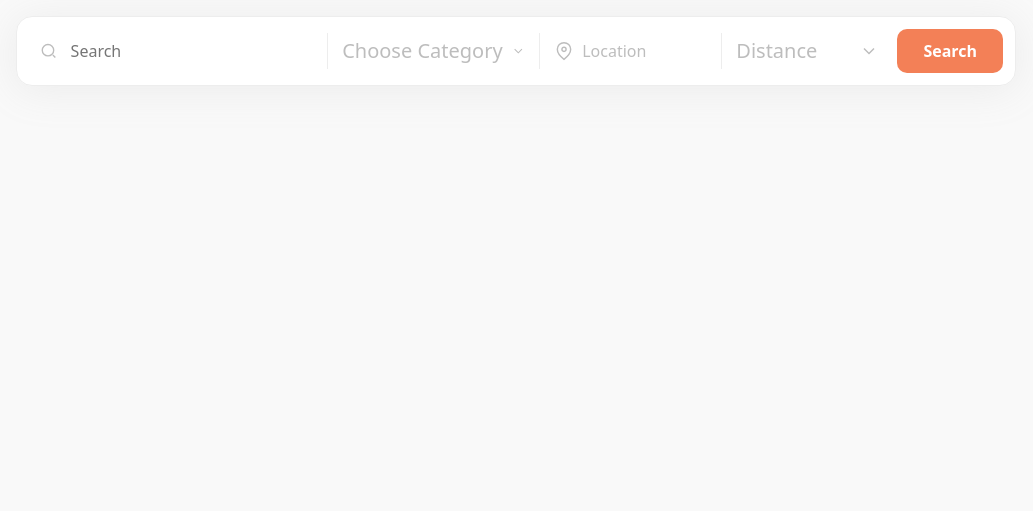
HomeSearchBar › does not fall back to the visitor position when a typed location gives no centre
This screenshot has width=1033, height=511.
Type "Al Khor" into the dropdown labelled "Location" at (645, 51), box x1=582 y1=38 x2=707 y2=64
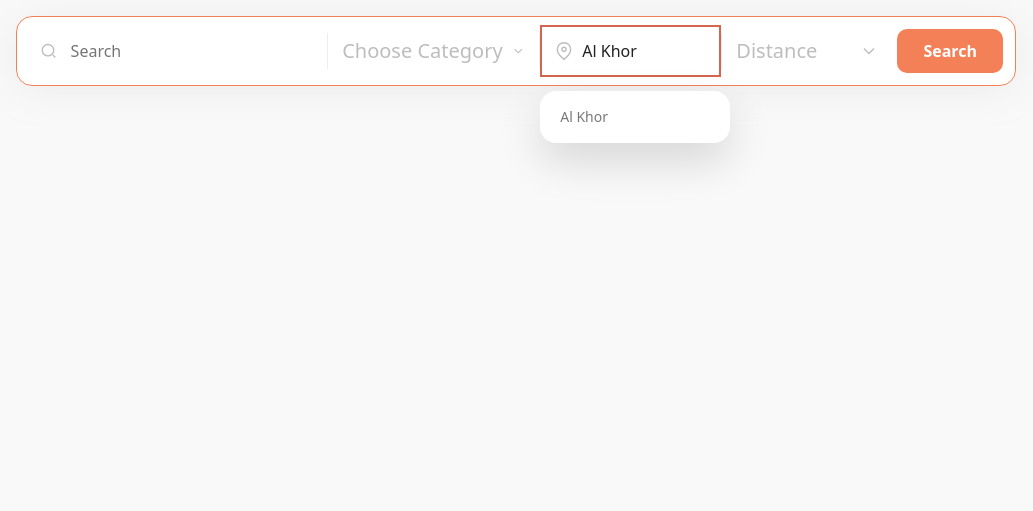
Click the dropdown labelled "Distance" at (808, 50), box x1=736 y1=37 x2=879 y2=64
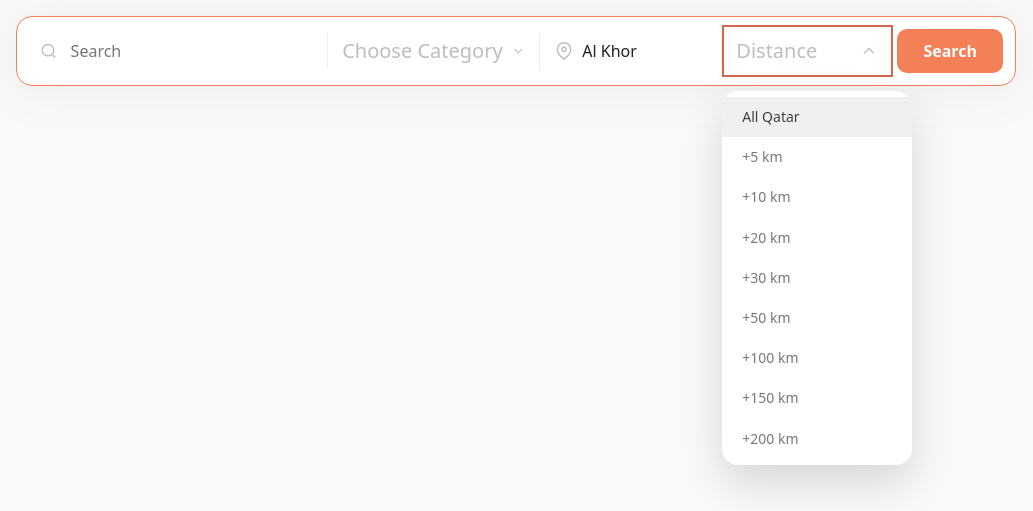
Click the option "+5 km" at (762, 157), box x1=742 y1=147 x2=782 y2=166
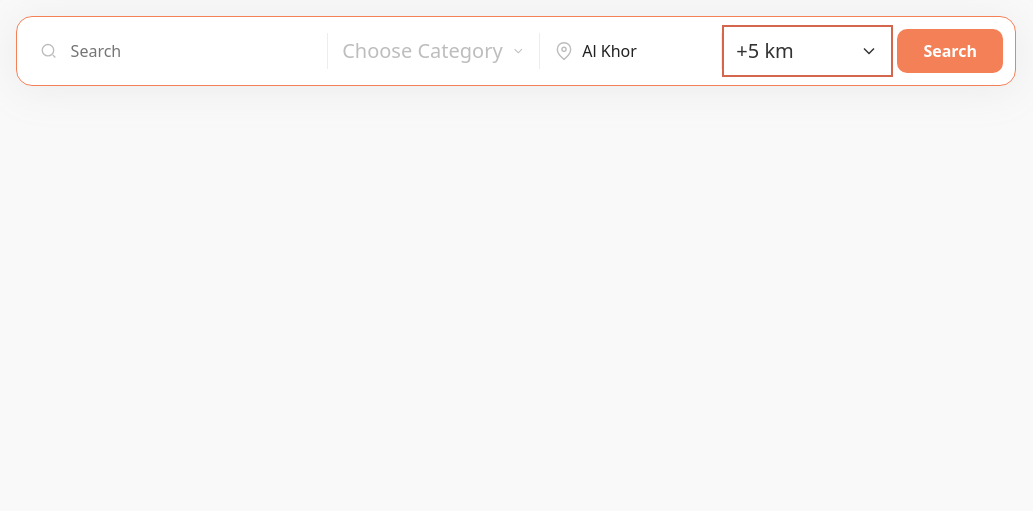
Click the button "Search" at (950, 51), box x1=897 y1=29 x2=1003 y2=73
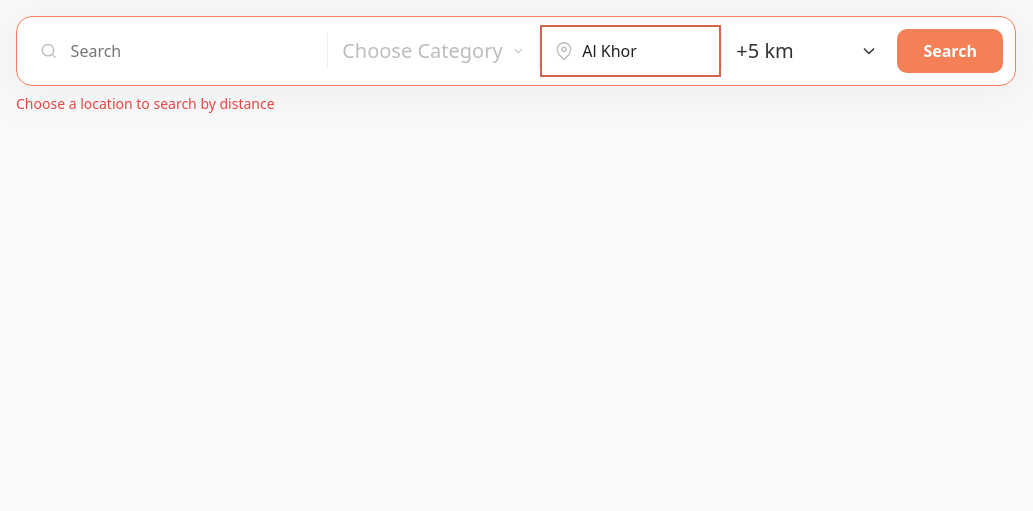
Expected: the message reads "Choose a location to search by distance", x1=16 y1=94 x2=275 y2=113
